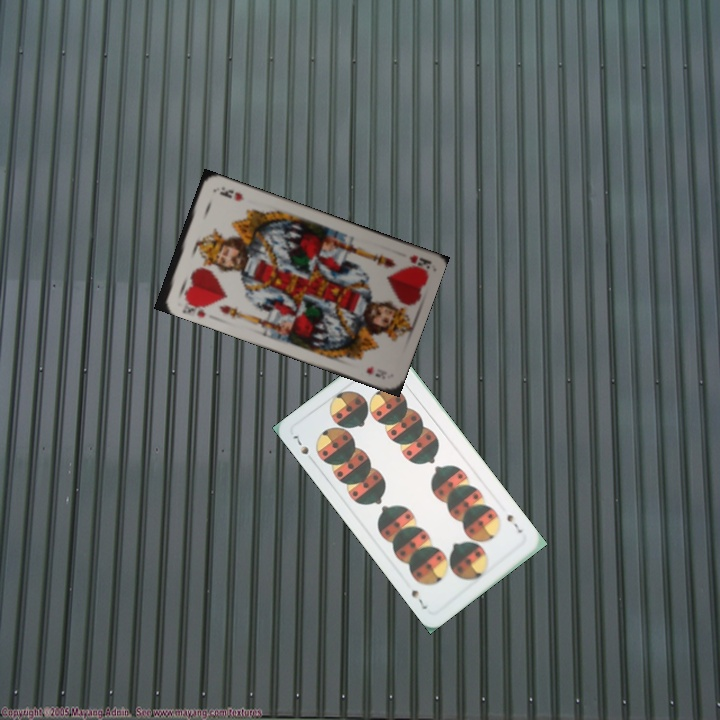HK: (178, 294, 211, 320), (405, 251, 431, 269)
S7: (289, 431, 311, 457), (503, 510, 525, 536)
